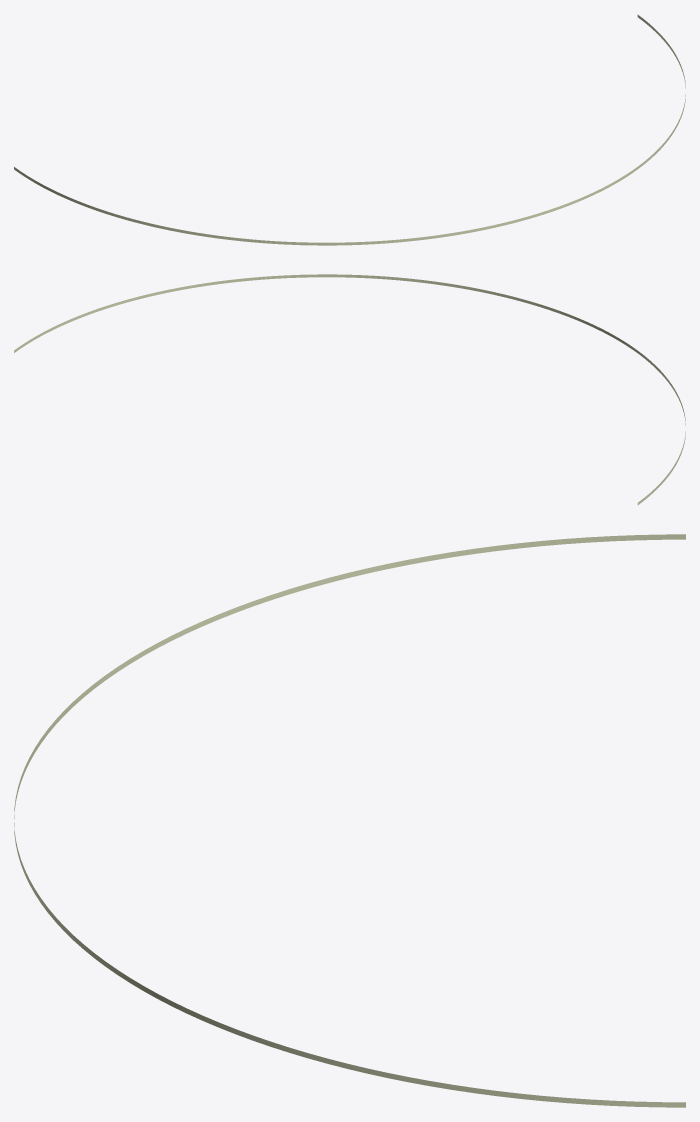
3 renders of one model, top to bottom at view 1: azimuth 30°, elevation 25°; view 2: azimuth 150°, elevation 25°; view 3: azimuth 270°, elevation 25°, orthographic. The views are drawn at different scales.
Visible parts, largest first — view 1: Circle4; view 2: Circle4; view 3: Circle4.
Boxes of the visible parts, bbox=[...] form: Circle4: bbox=[14, 14, 685, 245]; Circle4: bbox=[14, 274, 685, 505]; Circle4: bbox=[14, 534, 685, 1107].
Size of the model in its own units: 27.59 by 0.12 by 13.79.
